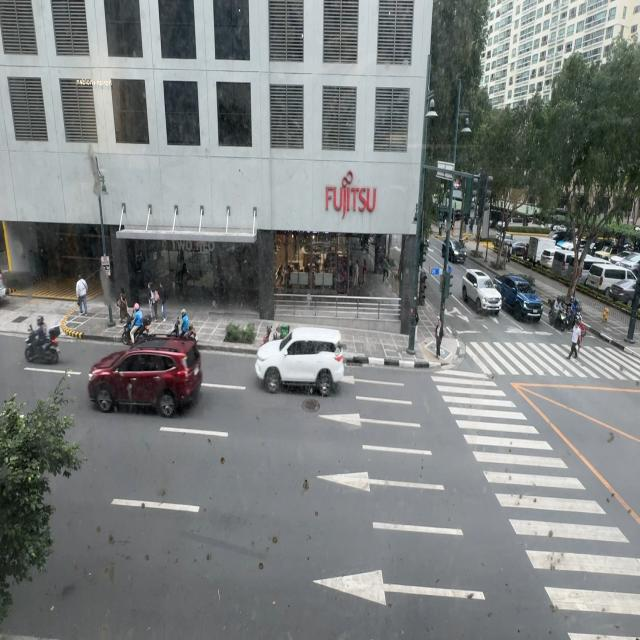crossing: (567, 320, 582, 362)
pedestrain: (76, 275, 88, 316), (148, 282, 157, 322), (158, 282, 167, 322), (118, 288, 128, 324)
waiting: (435, 317, 444, 358)
